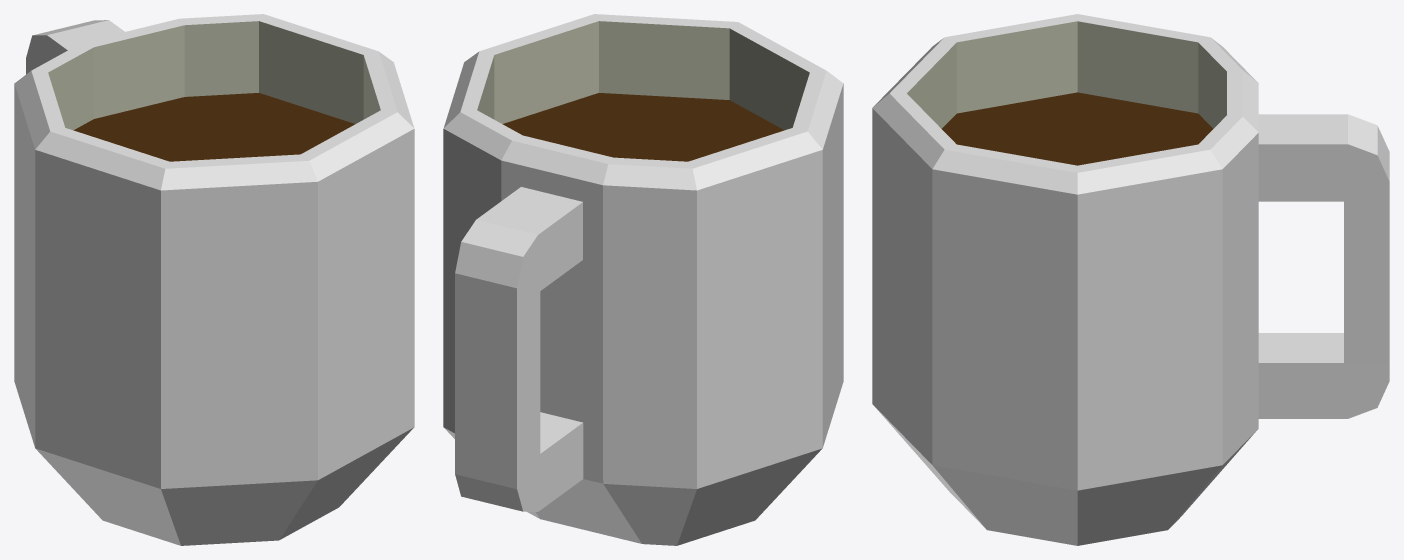
File: Mug.glb
The picture shows the model from 3 angles, left to right: view 1: azimuth 30°, elevation 25°; view 2: azimuth 150°, elevation 25°; view 3: azimuth 270°, elevation 25°; orthographic projection.
Visible parts, largest first — view 1: Cylinder.001; view 2: Cylinder.001; view 3: Cylinder.001.
Part boxes in pixels (x1,y1,x2,y2): Cylinder.001: (14,14,414,545); Cylinder.001: (443,14,843,545); Cylinder.001: (872,14,1389,545).
Bounding box in the file's own units: 0.08 × 0.0857 × 0.1008.
